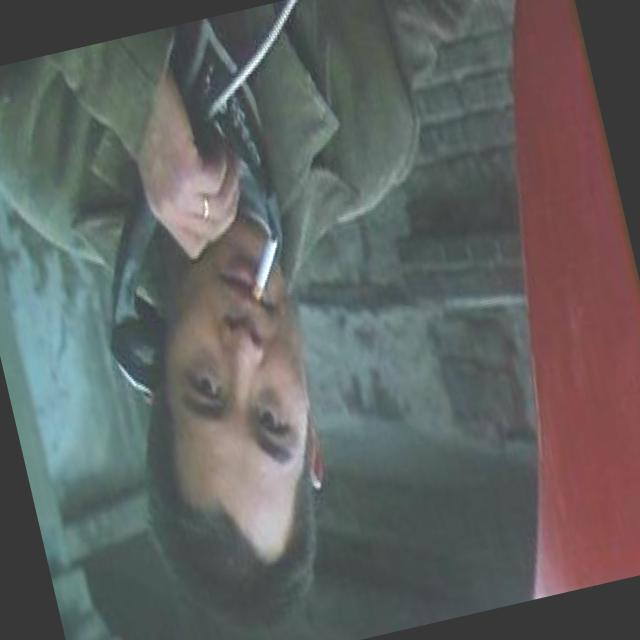cigarette: (236, 190, 310, 328)
